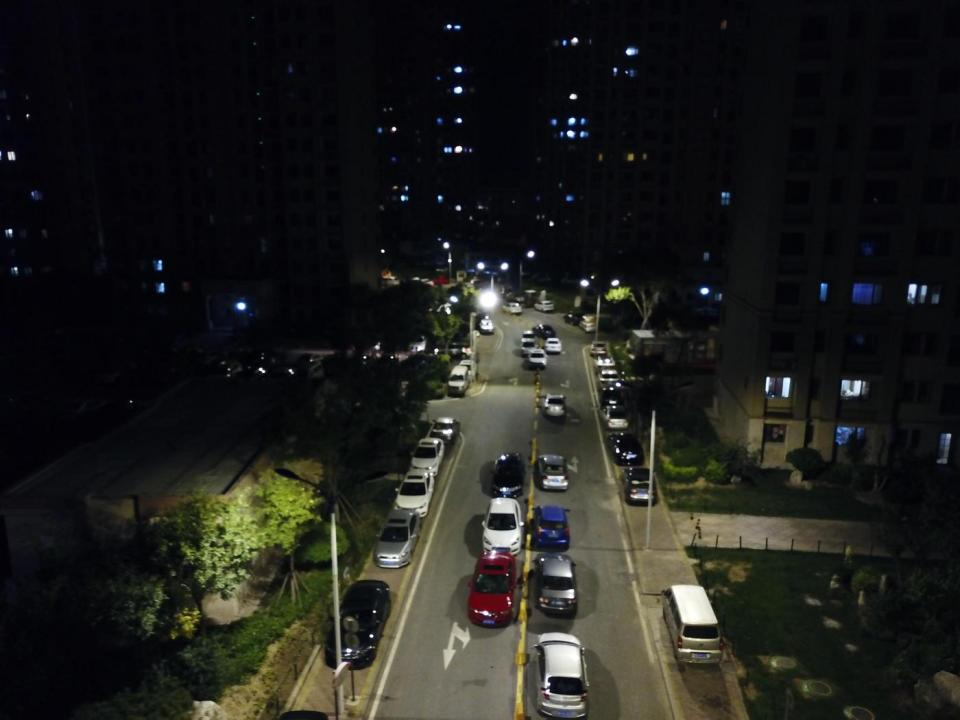car: (327, 577, 394, 673), (535, 632, 594, 720), (466, 546, 522, 628), (535, 550, 582, 623), (371, 505, 424, 569), (480, 495, 524, 558), (392, 466, 439, 518), (530, 500, 571, 554), (489, 442, 526, 501), (620, 463, 658, 502), (605, 428, 644, 465), (410, 434, 445, 475), (534, 450, 569, 491), (426, 412, 461, 448), (542, 388, 568, 420), (596, 382, 629, 406), (601, 405, 629, 431), (433, 341, 474, 358), (594, 368, 618, 389), (587, 333, 608, 357), (407, 330, 428, 353), (593, 354, 619, 372), (531, 323, 557, 341), (456, 358, 477, 378), (564, 308, 586, 326), (519, 337, 538, 356), (529, 348, 547, 368), (479, 315, 496, 336), (544, 337, 564, 354), (500, 302, 522, 317), (519, 328, 537, 345), (533, 300, 555, 313), (467, 278, 485, 290), (431, 275, 451, 285)
van: (660, 584, 724, 669), (446, 364, 470, 396)
